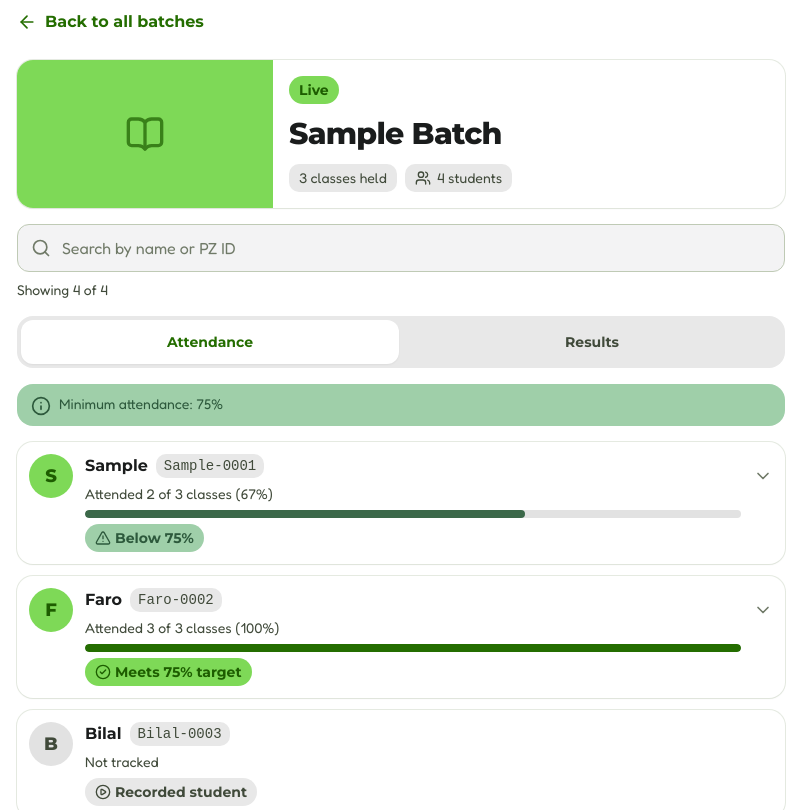
Scenario: BatchPortal results › switches to one class and shows 'of max' only when known
Click the tab "Results": (592, 342) [403,320,781,364]
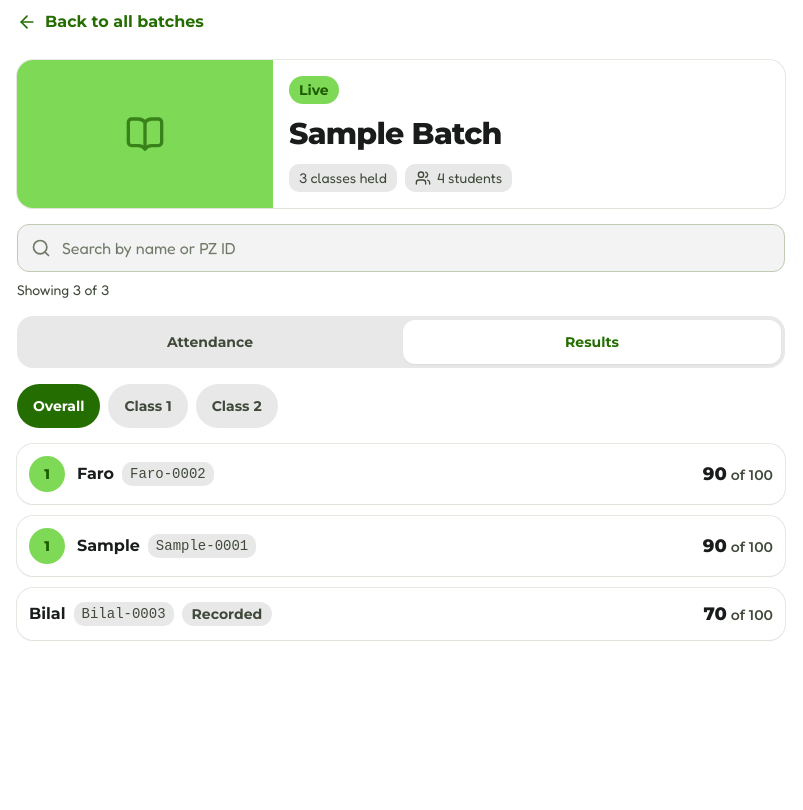
Click the button "Class 1": (148, 406) [108,384,188,428]
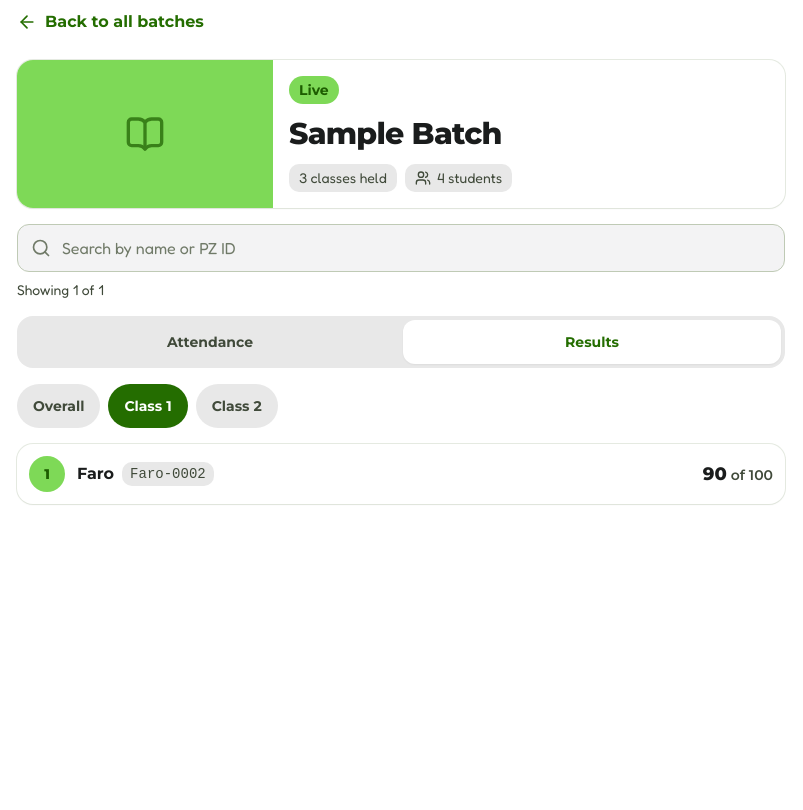
Expected: the text "of 100" is shown, [727,466,773,484]
Expected: the text "Sample-0001" is gone
Click the button "Class 2": (237, 406) [196,384,278,428]
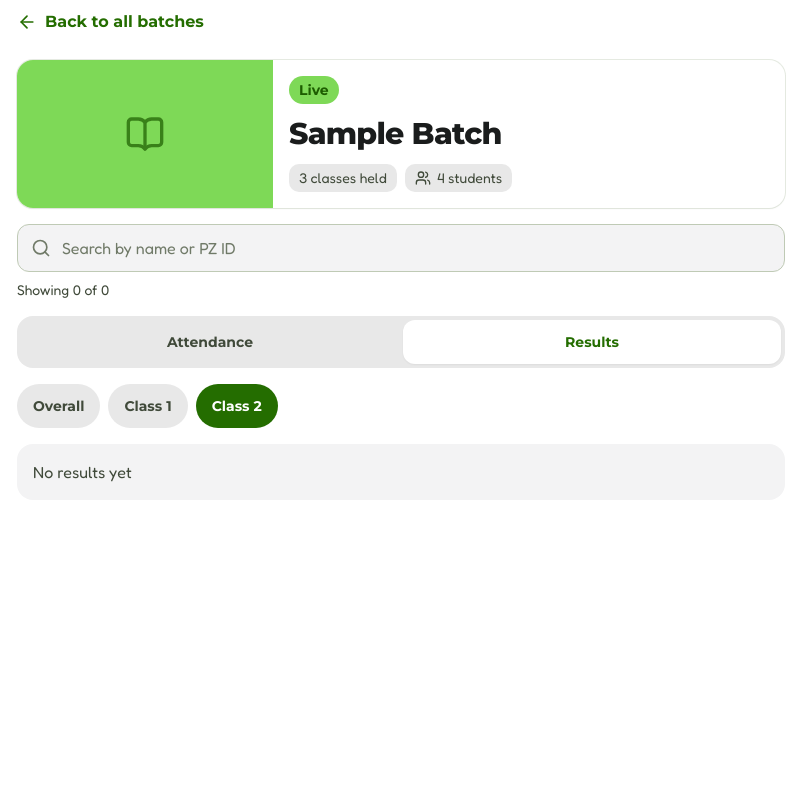
Expected: the text "No results yet" is shown, [17,444,785,500]
